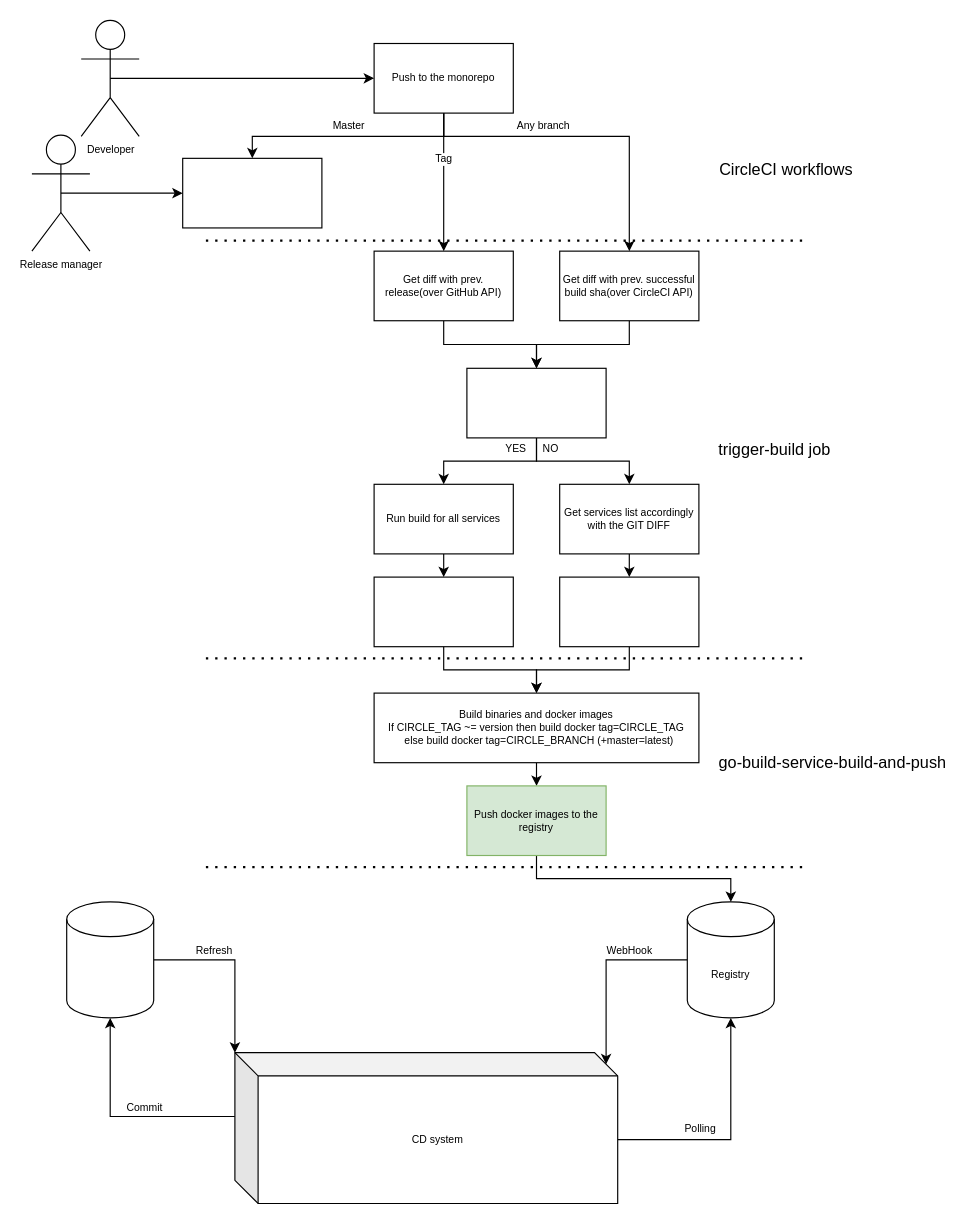
Some shapes in this 974 by 1224 pixel diagram are drawn without their labels. Each missing label, with the centre of its shape:
"Approve release / make a version tag" belongs at point (252, 192).
"Check if go.mod affected" belongs at point (536, 402).
"Configuration repo" belongs at point (110, 959).
"Run defined custom workflow over CircleCi API" belongs at point (443, 611).
"Run separated build over CircleCI API" belongs at point (629, 611).
